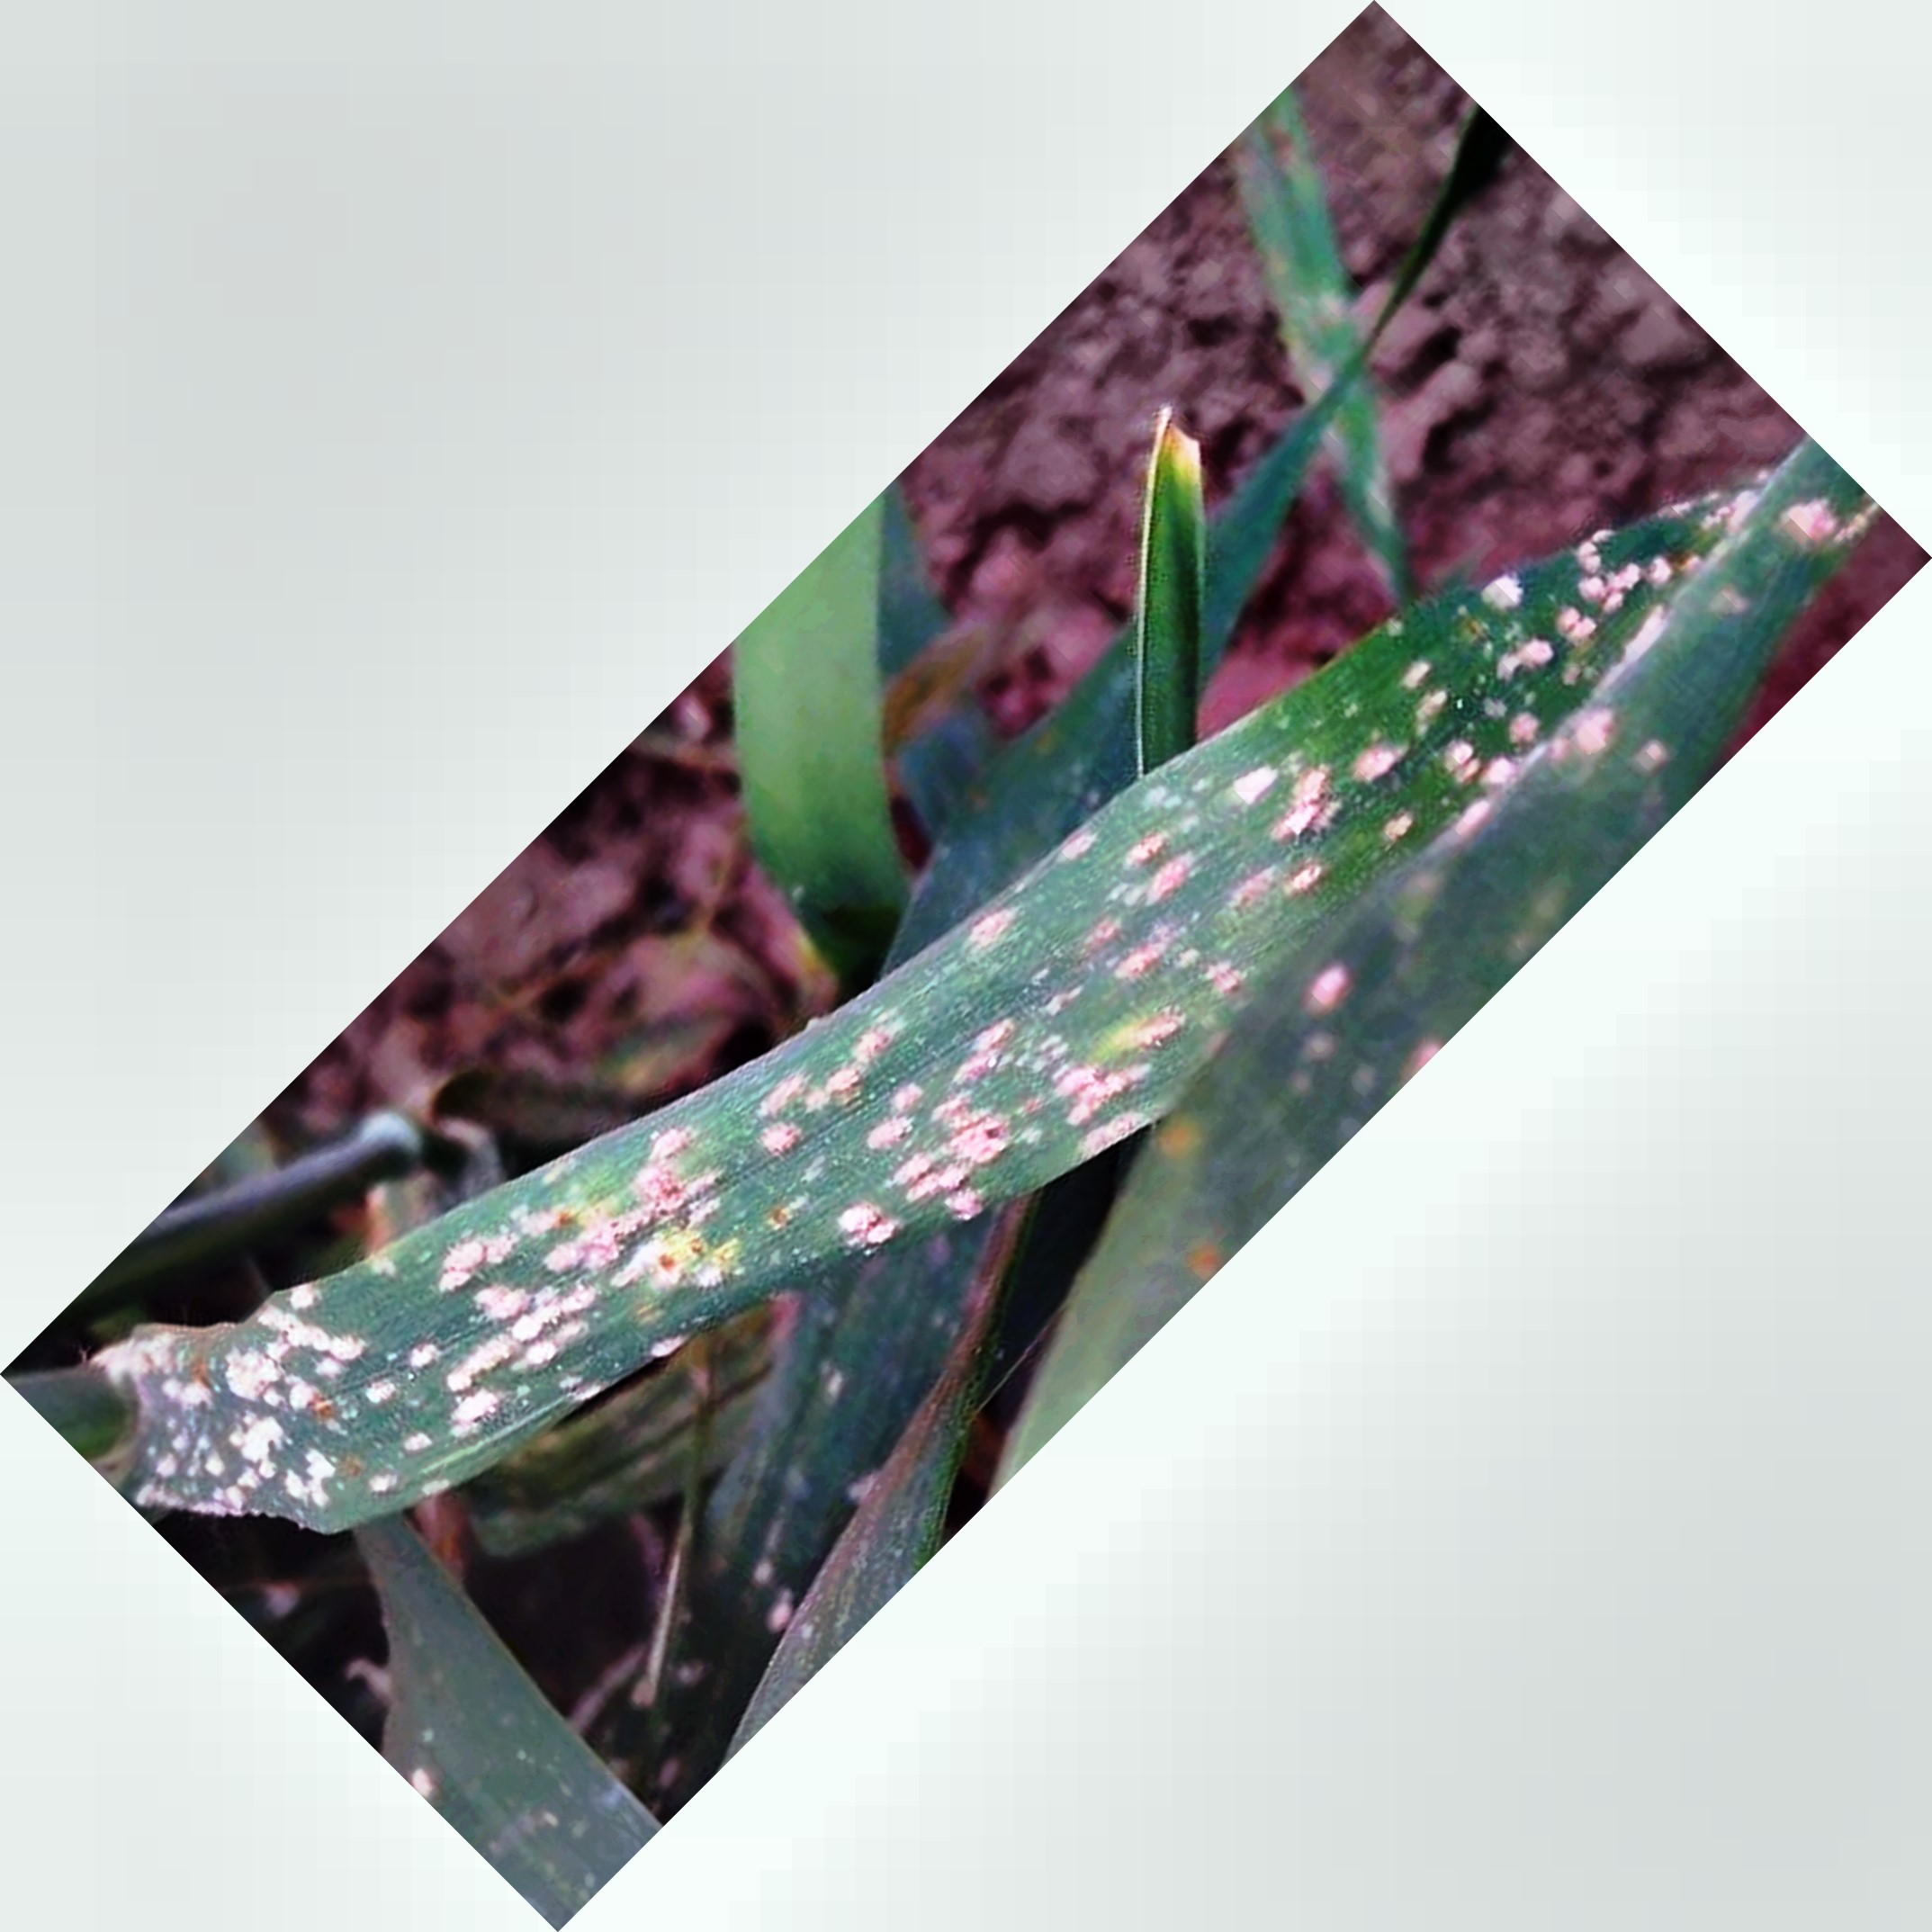Powdery Mildew: (196, 706, 1442, 1513)
